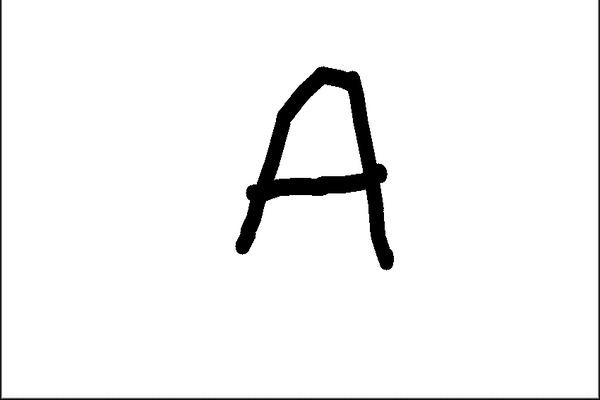A: (231, 55, 401, 277)
